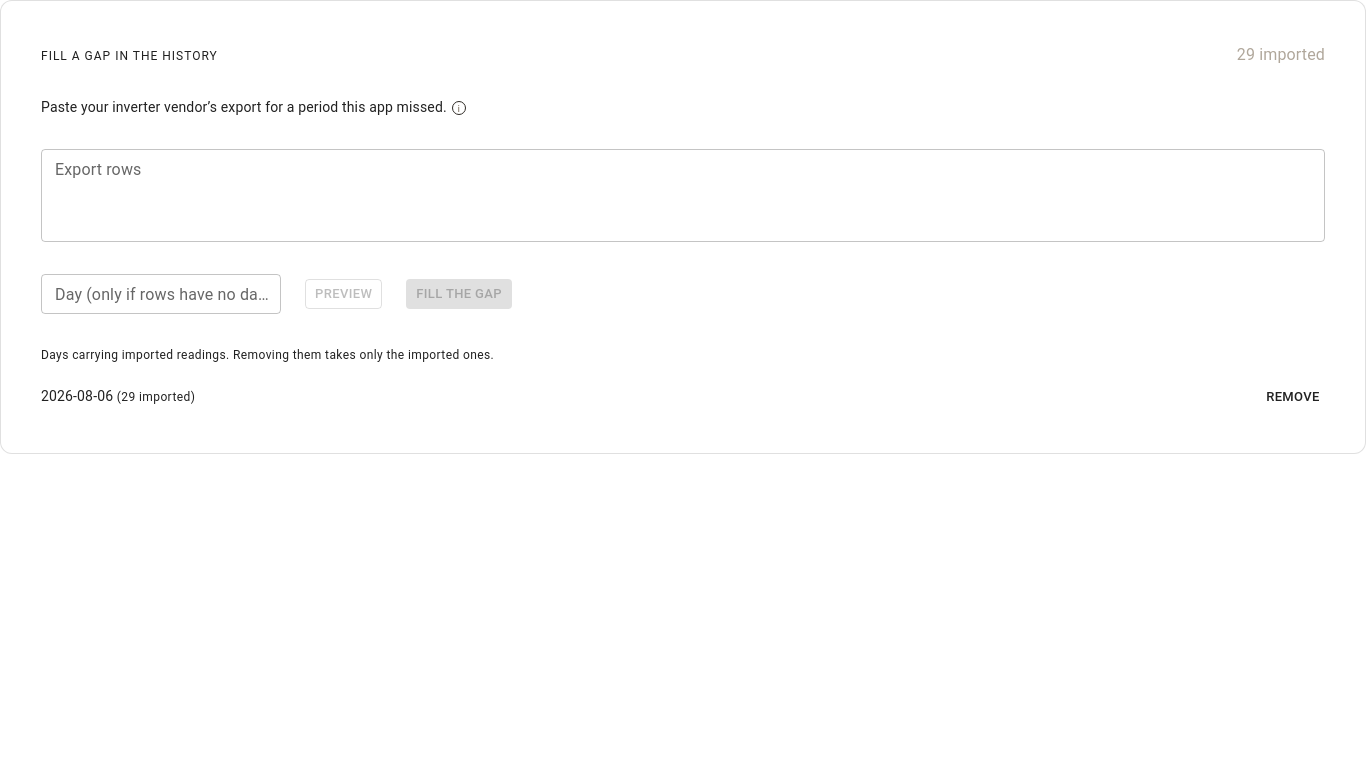
Scenario: GapFillCard › lists what has been imported, and can take it back
The image size is (1366, 768).
Expected: the text "(29 imported)" is shown, x1=117 y1=390 x2=195 y2=404
Expected: the text "2026-08-06" is shown, x1=41 y1=388 x2=113 y2=404
Step 1. Click the button "Remove" → click(1293, 397), box x1=1261 y1=382 x2=1325 y2=413
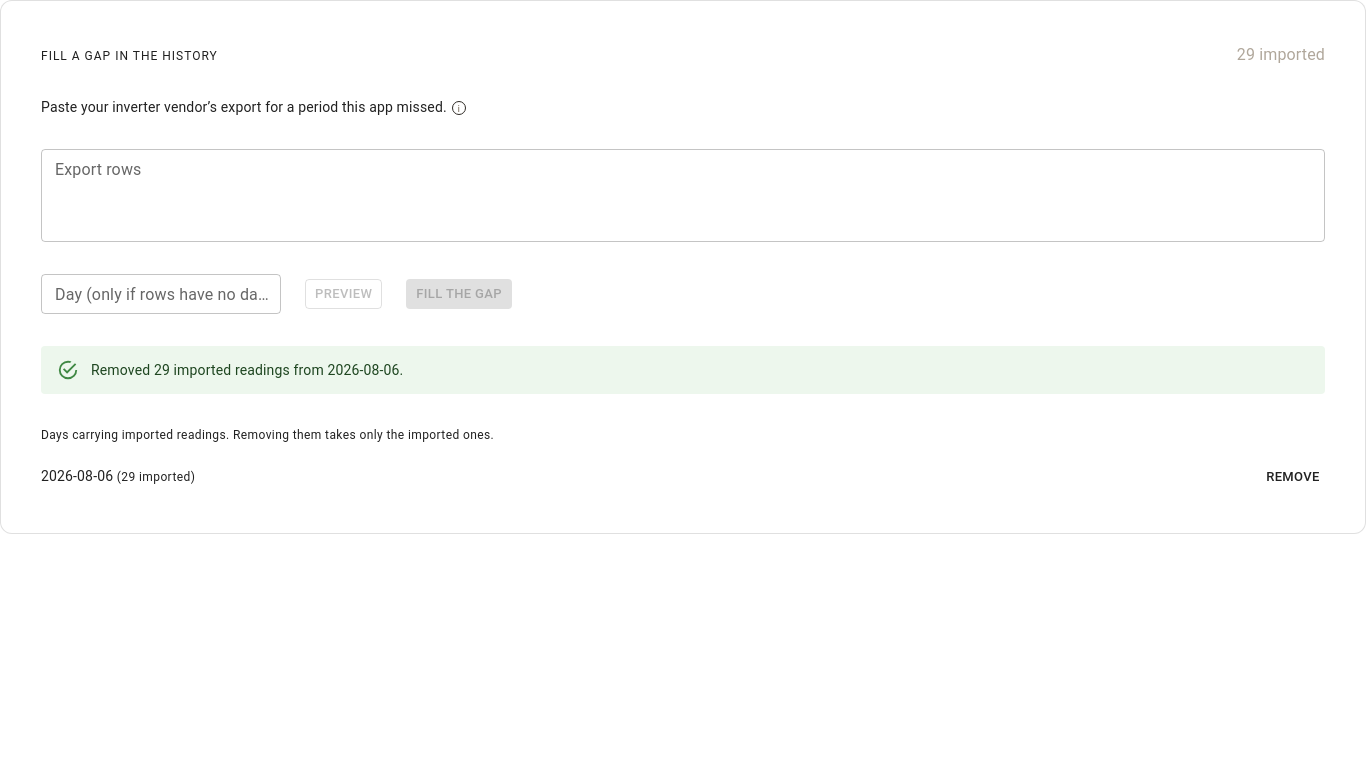
Expected: the text "Removed 29 imported readings from 2026-08-06." is shown, x1=91 y1=362 x2=404 y2=378
